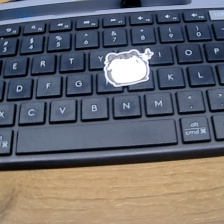mouse: (101, 42, 158, 91)
